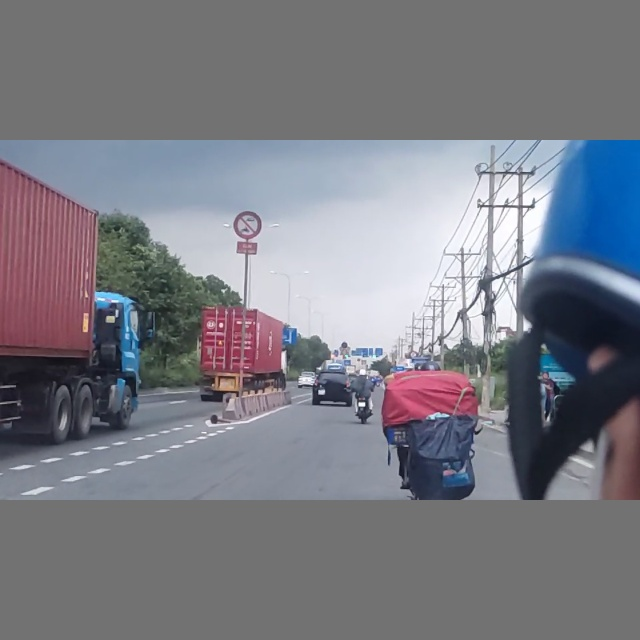P.111: (234, 210, 262, 240)
